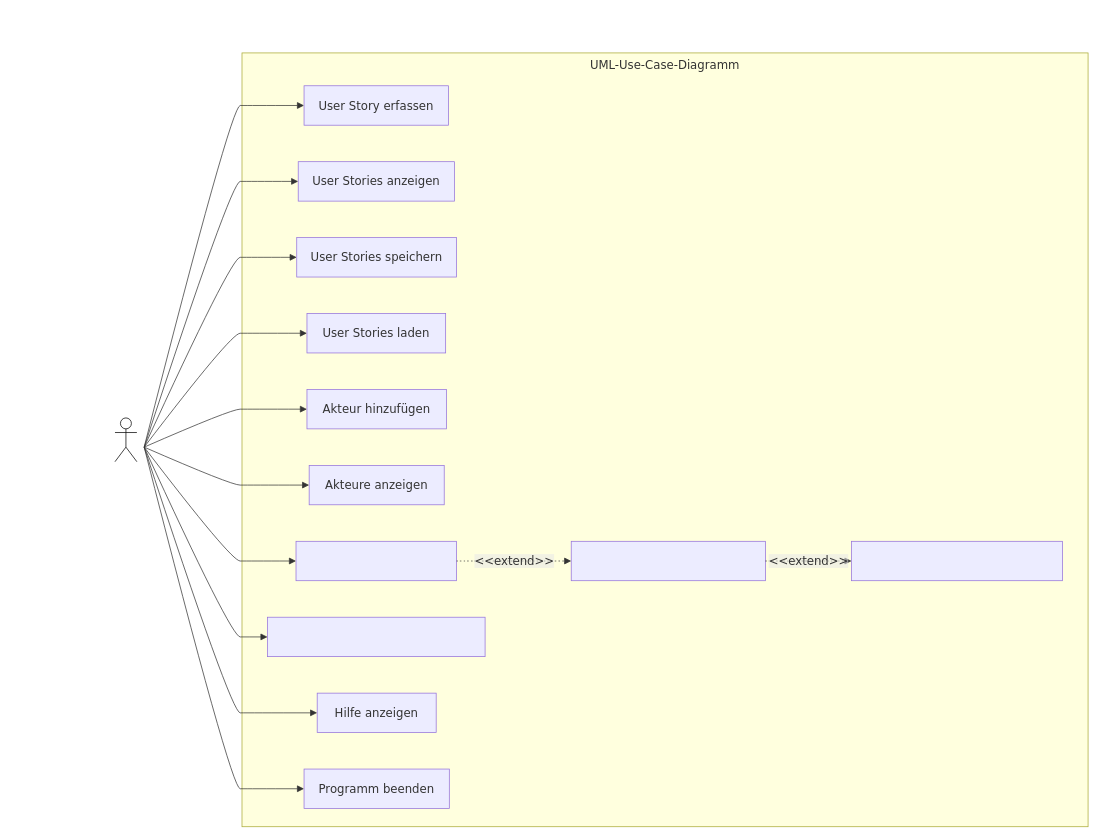
The diagram is 1101 pixels wide and 840 high, and some of its shapes have lost their labels. Each missing label, with the centre of its shape:
"Analyse mit Details anzeigen" goes at (x=667, y=561).
"Analyse mit Hinweisen anzeigen" goes at (x=957, y=561).
"Benutzer" goes at (x=125, y=439).
"Letzte Aktion rückgängig machen" goes at (x=376, y=636).
"User Story analysieren" goes at (x=376, y=561).
